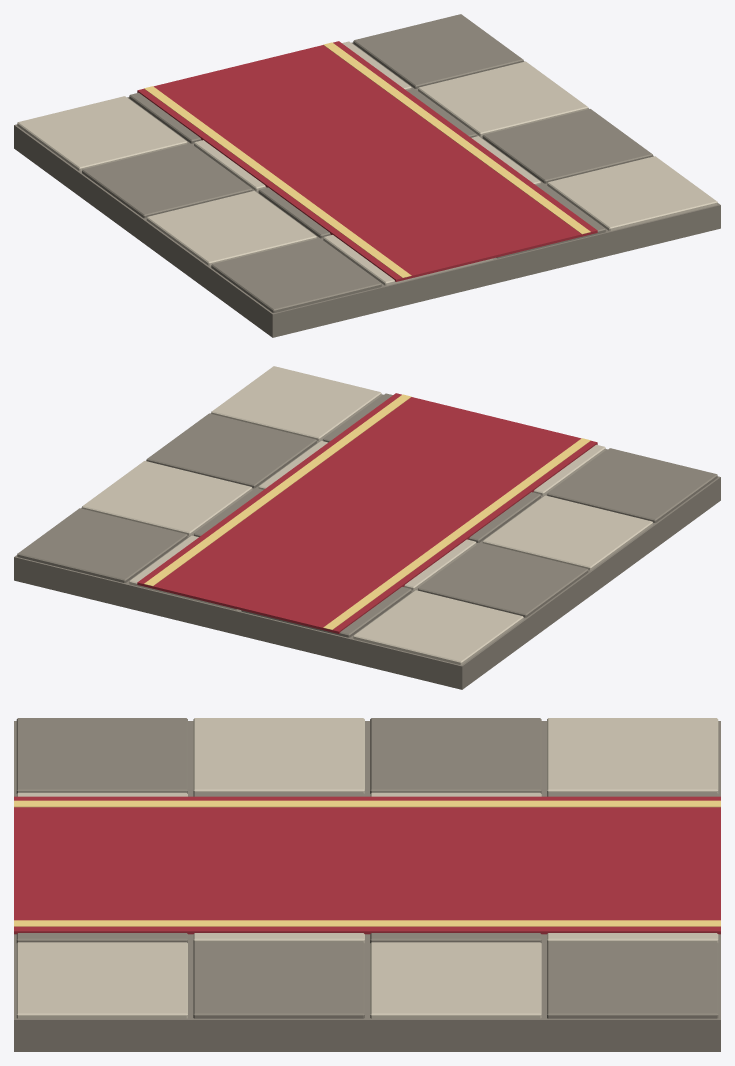
Rendered from floor_bb_aisle.glb.
The picture shows the model from 3 angles, top to bottom: view 1: azimuth 30°, elevation 25°; view 2: azimuth 150°, elevation 25°; view 3: azimuth 270°, elevation 25°; orthographic projection. The views are drawn at different scales.
Visible parts, largest first — view 1: floor_bb_aisle; view 2: floor_bb_aisle; view 3: floor_bb_aisle.
Part boxes in pixels (x1=…): floor_bb_aisle: x1=14, y1=14, x2=720, y2=337; floor_bb_aisle: x1=14, y1=366, x2=720, y2=689; floor_bb_aisle: x1=14, y1=718, x2=720, y2=1051.
Bounding box in the file's own units: 4 × 0.243 × 4.
